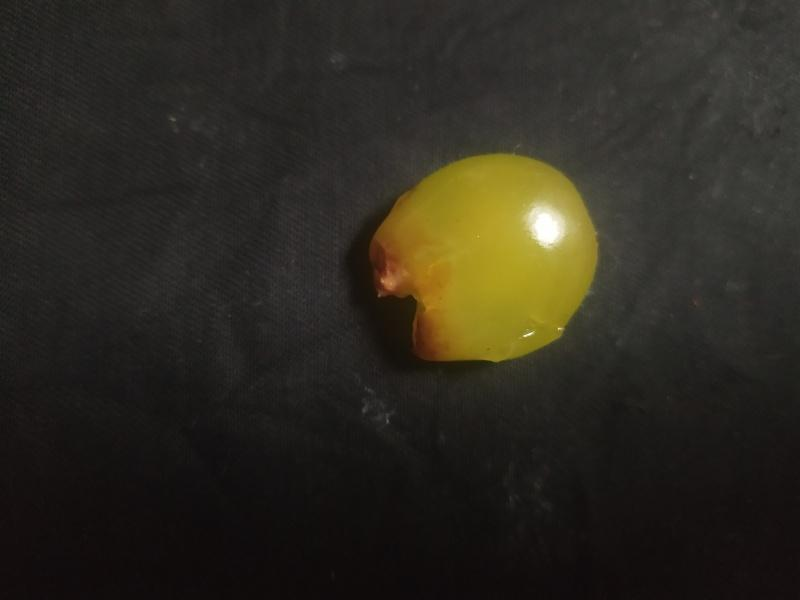Grape Overripe: (366, 150, 600, 364)
